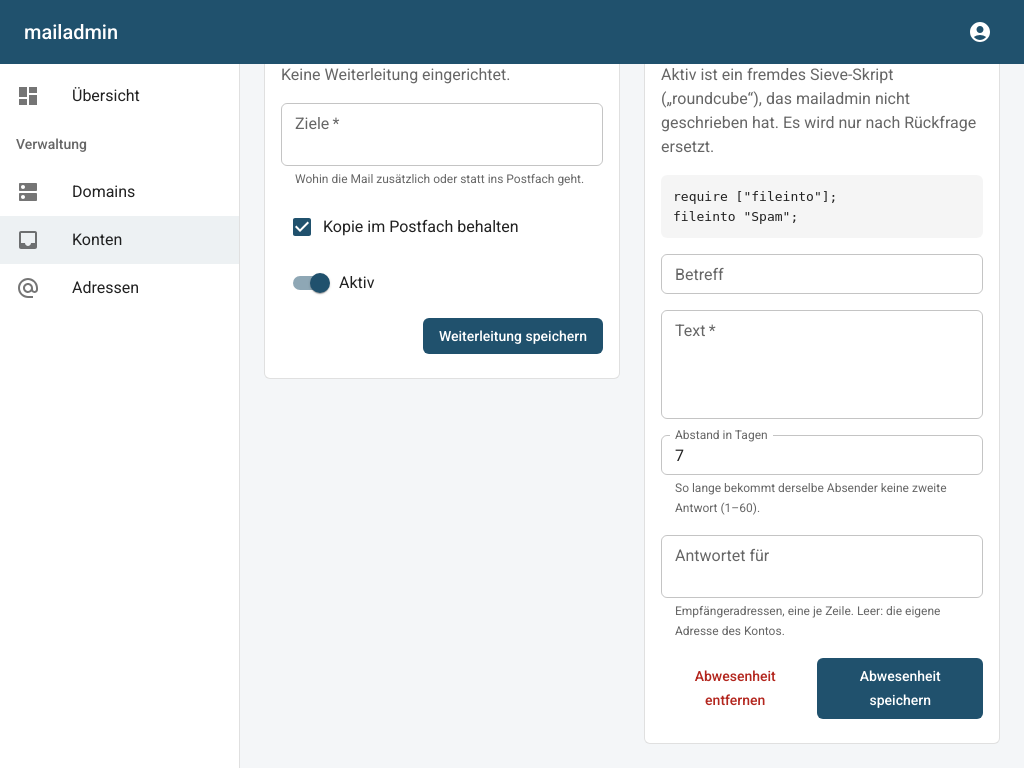
the vacation notice on the account page (A3) › removes a foreign script with take_over
This screenshot has width=1024, height=768.
(page scrolled)
Click the button "Abwesenheit entfernen".
click(735, 688)  # box [661,658,810,719]
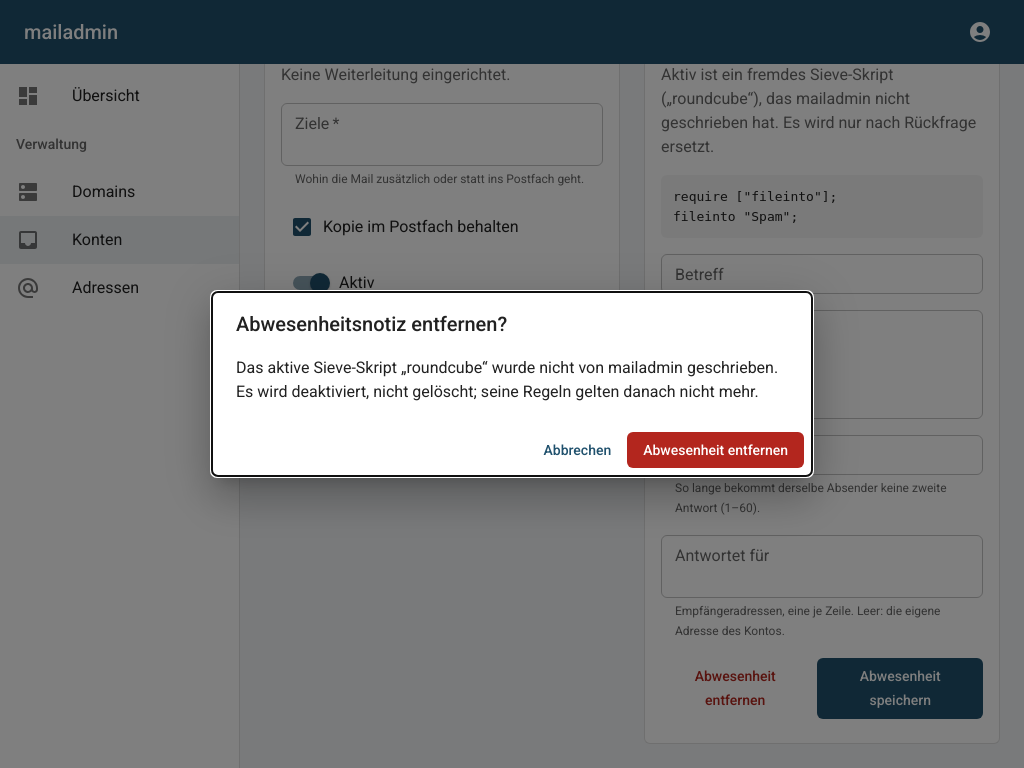
Expected: the text "wird deaktiviert, nicht gelöscht" is shown, [236,358,778,401]
Click the button "Abwesenheit entfernen".
click(716, 450)  # box [627,432,804,468]
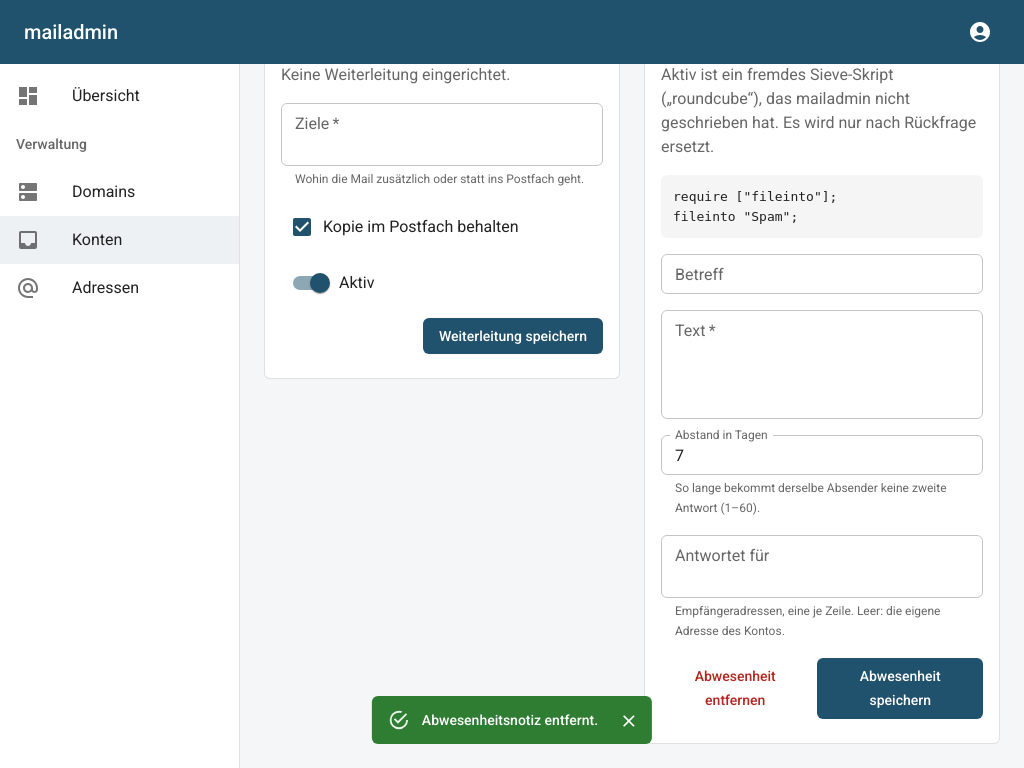
Expected: the text "Abwesenheitsnotiz entfernt." is shown, [422,712,598,728]
